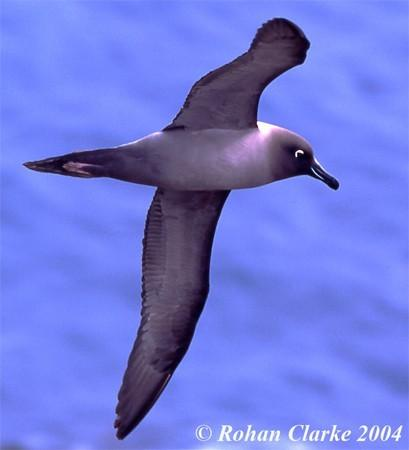bird: (21, 14, 343, 439)
